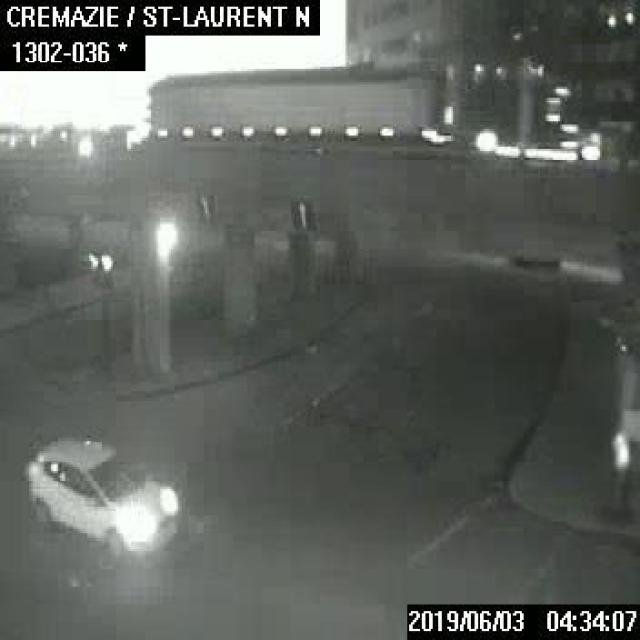vehicle: (20, 431, 178, 565)
